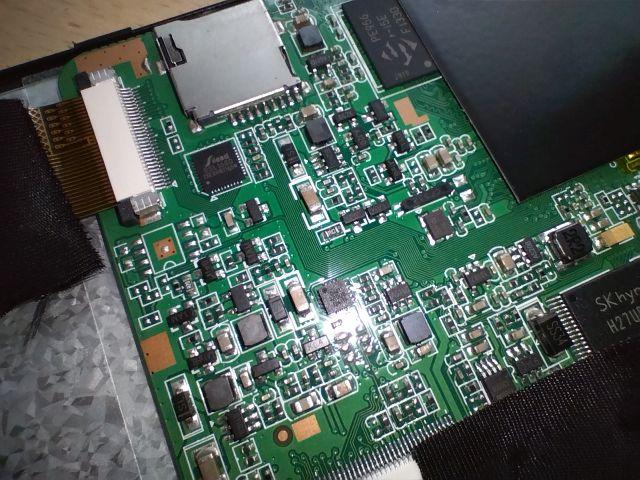capacitor: (292, 170, 330, 227), (288, 274, 316, 311), (324, 381, 362, 399), (290, 395, 325, 412), (223, 212, 246, 235), (414, 155, 437, 176), (411, 344, 441, 360), (438, 147, 455, 175), (380, 330, 401, 352), (499, 249, 516, 276)
resistor: (192, 291, 227, 308), (167, 280, 185, 294)
